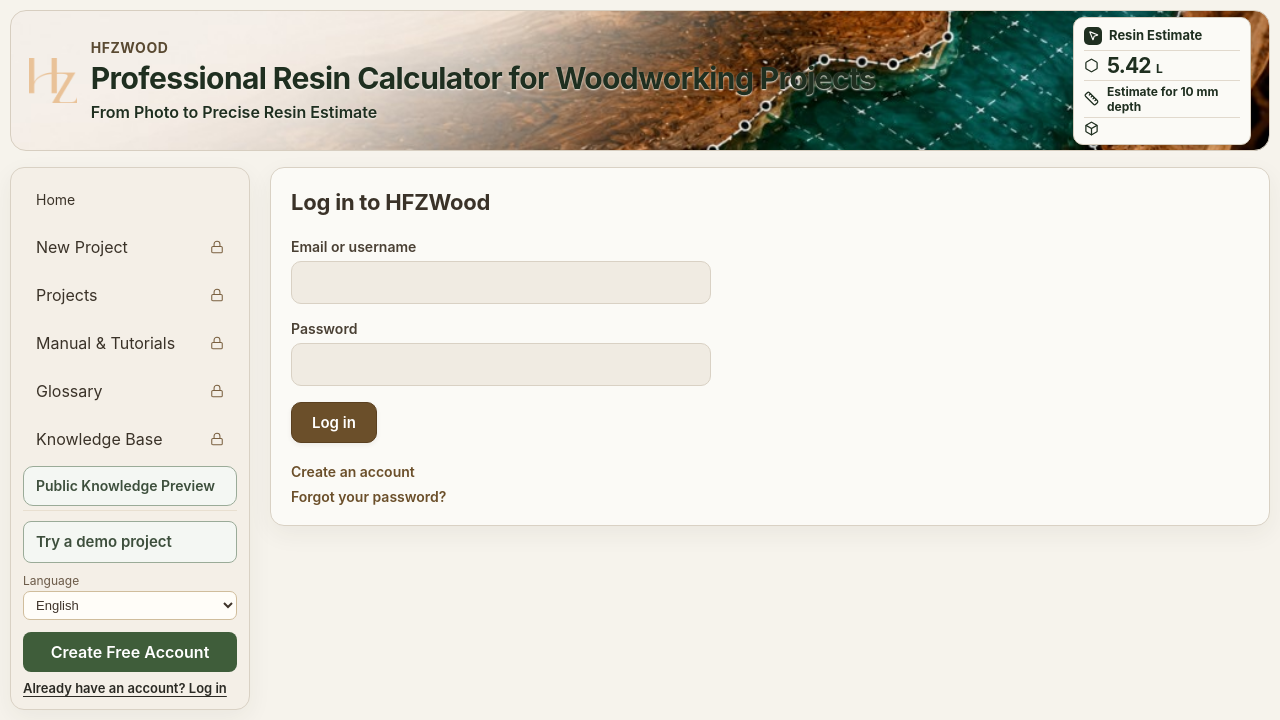
Test: Authenticated Mode navigation › keeps protected module items locked for guests
The image size is (1280, 720).
Expected: the button "Projects" is shown, [23,274,237,316]
Expected: the button "Manual & Tutorials" is shown, [23,322,237,364]
Step 1. Click the button "New Project" → (130, 247), box [23,226,237,268]
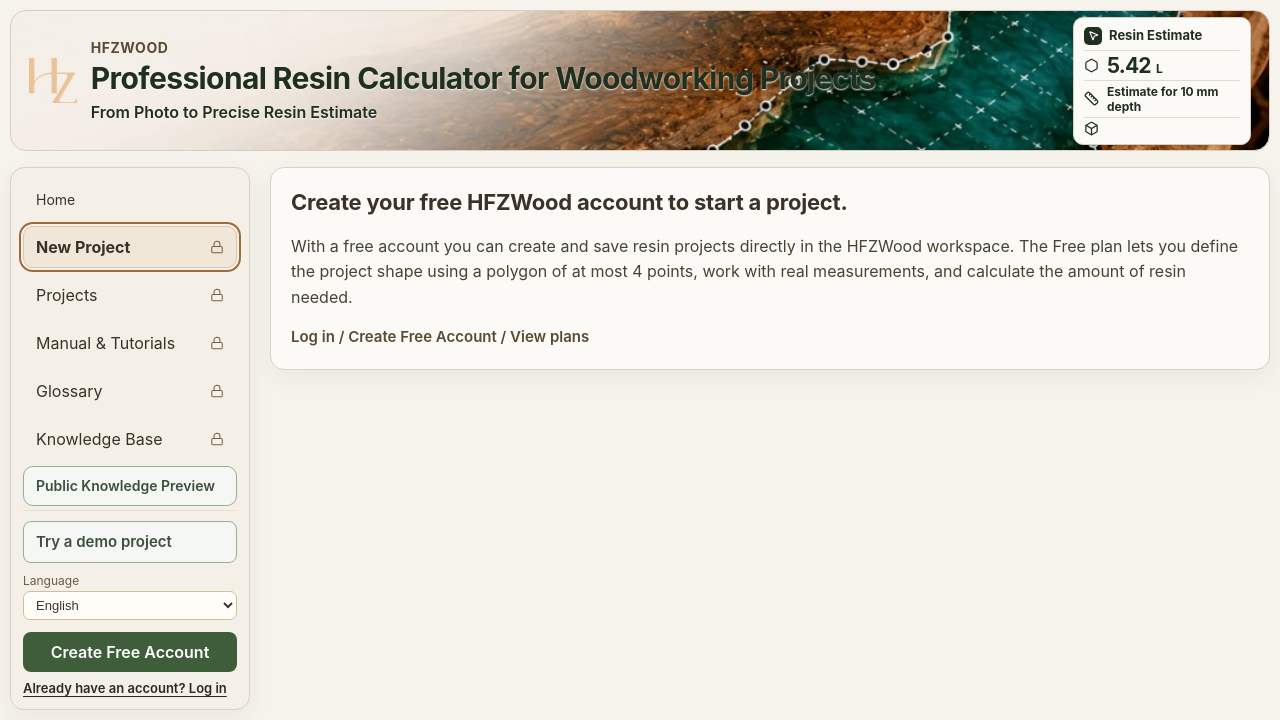
Now the heading "Create your free HFZWood account to start a project." is shown, box [291,189,848,215]
